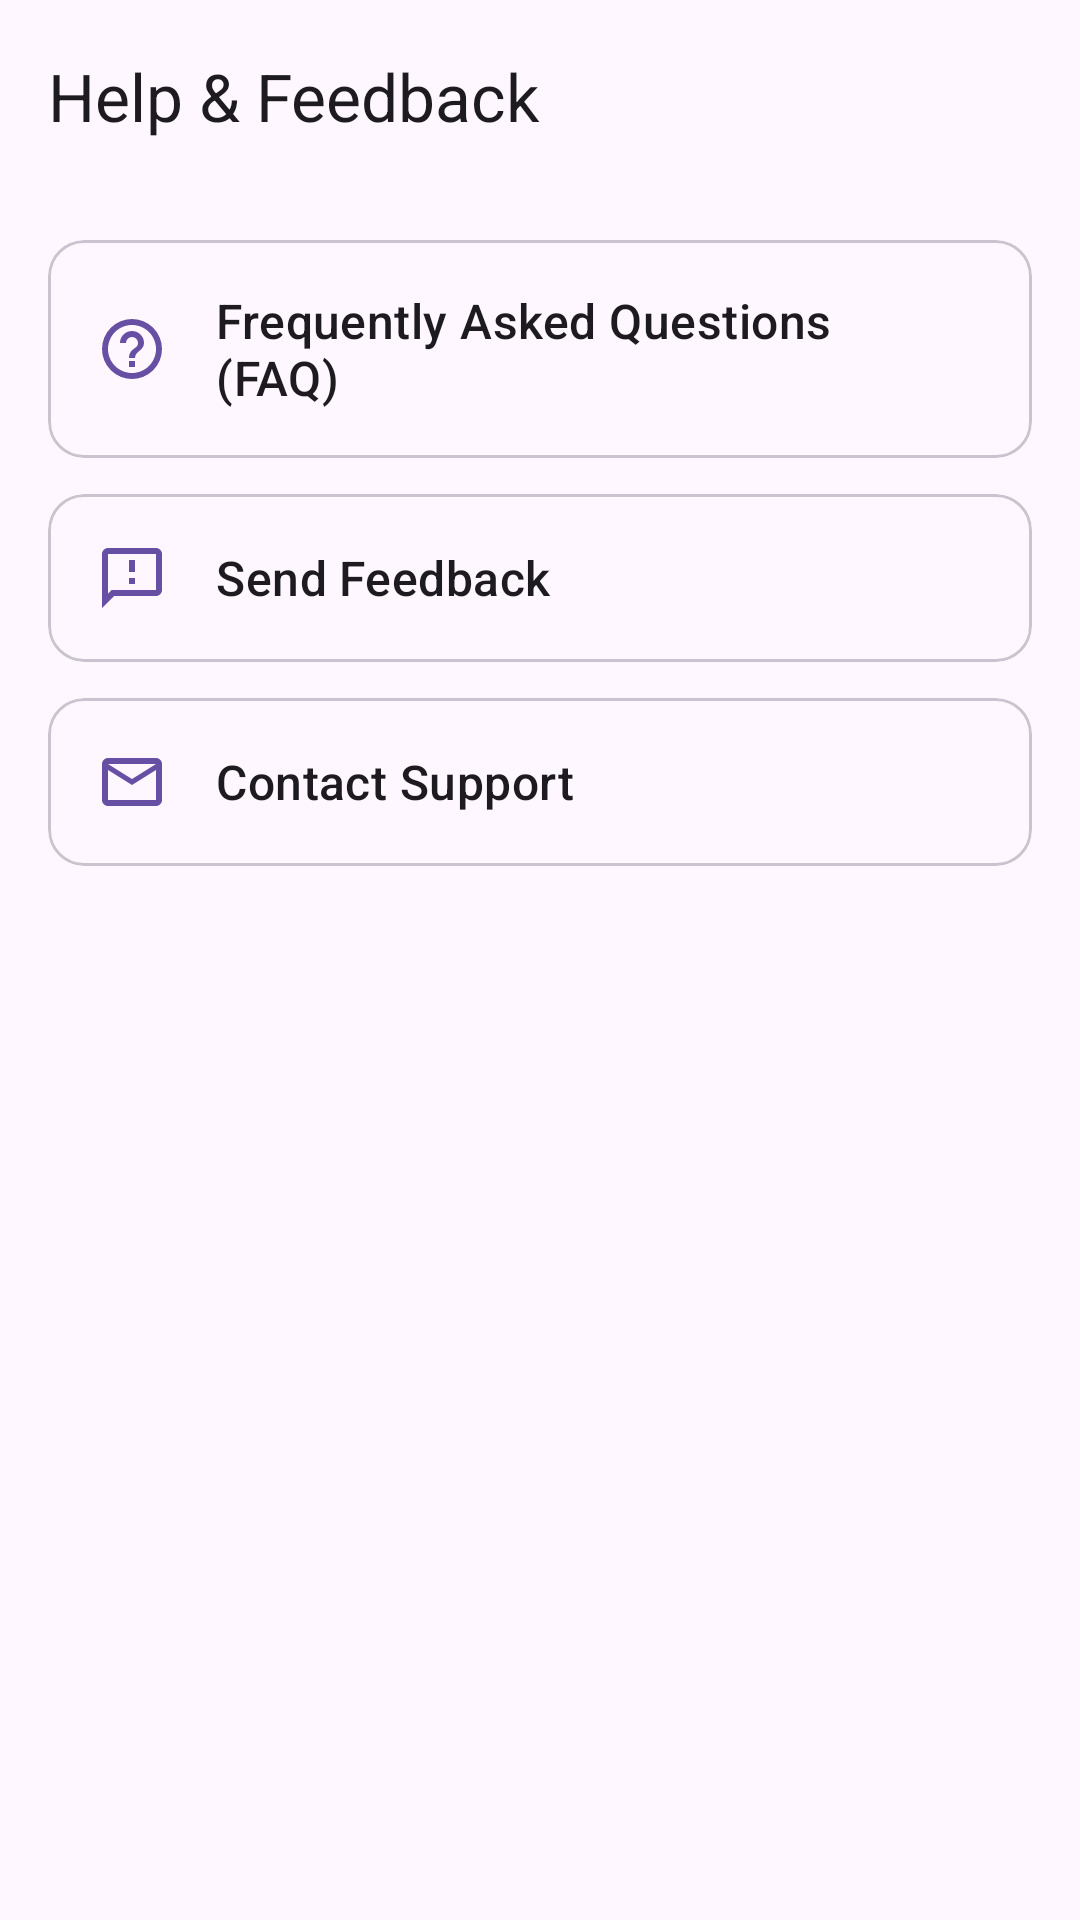

Locate icon controls on the screen. Image size 1080px x 1920px, boxes as (x1, y1, x2, y2).
email: (102, 758, 162, 806)
help: (102, 319, 162, 379)
